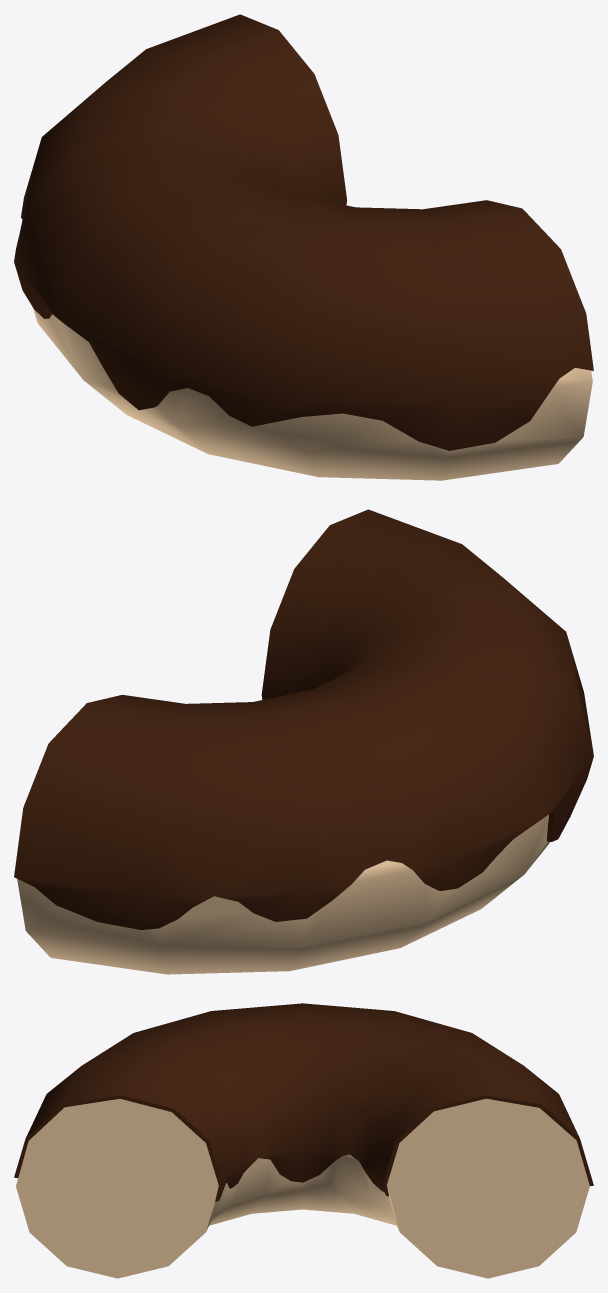
File: chocolate_donut_cut.glb
The picture shows the model from 3 angles, top to bottom: view 1: azimuth 30°, elevation 25°; view 2: azimuth 150°, elevation 25°; view 3: azimuth 270°, elevation 25°; orthographic projection. The views are drawn at different scales.
Visible parts, largest first — view 1: HalfGlaze, HalfDonut; view 2: HalfGlaze, HalfDonut; view 3: HalfDonut, HalfGlaze.
Boxes of the visible parts, x1=… form: HalfGlaze: x1=14, y1=14, x2=593, y2=450; HalfDonut: x1=33, y1=308, x2=592, y2=480; HalfGlaze: x1=14, y1=509, x2=593, y2=929; HalfDonut: x1=17, y1=814, x2=570, y2=974; HalfDonut: x1=16, y1=1098, x2=589, y2=1278; HalfGlaze: x1=14, y1=1003, x2=593, y2=1201.
Bounding box in the file's own units: 1.57 × 1.09 × 3.13.
2 materials, 2 textured.
